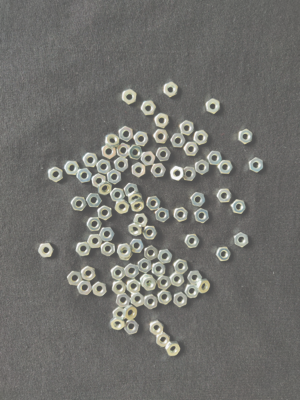nut: (122, 89, 138, 106), (163, 82, 179, 98), (141, 100, 157, 116), (134, 131, 150, 147), (83, 152, 99, 168), (155, 113, 170, 129), (180, 121, 196, 136), (194, 130, 209, 146), (238, 129, 253, 145), (119, 126, 134, 142), (156, 147, 172, 162), (114, 157, 129, 173), (97, 159, 112, 175), (77, 168, 93, 183), (86, 193, 102, 208), (231, 200, 247, 215), (76, 242, 92, 257), (117, 243, 133, 258), (144, 245, 159, 261), (157, 249, 173, 264), (111, 265, 126, 281), (81, 266, 96, 282), (67, 271, 83, 286), (110, 316, 126, 331), (150, 320, 165, 336), (156, 332, 171, 348), (166, 341, 181, 357), (38, 244, 55, 258), (206, 99, 221, 114), (154, 129, 169, 144), (141, 151, 156, 166), (128, 145, 143, 160), (208, 151, 223, 166), (249, 158, 264, 173), (170, 166, 185, 181), (151, 163, 166, 178), (107, 170, 122, 185), (87, 217, 102, 232), (147, 196, 162, 211), (174, 208, 189, 223), (191, 193, 206, 208), (195, 209, 210, 224), (100, 227, 115, 242), (216, 247, 231, 262), (234, 233, 249, 248), (101, 242, 116, 257), (130, 239, 145, 254), (174, 259, 189, 274), (138, 258, 153, 273), (77, 281, 92, 296), (92, 282, 107, 297), (196, 279, 211, 294), (170, 272, 185, 287), (157, 290, 172, 305), (116, 294, 131, 309), (124, 320, 139, 335), (184, 142, 200, 156), (218, 161, 234, 175), (49, 167, 63, 183), (110, 187, 126, 201), (71, 197, 87, 211), (98, 205, 112, 221), (156, 207, 170, 223), (217, 189, 233, 203), (87, 234, 103, 248), (174, 292, 188, 308), (171, 134, 186, 148), (106, 134, 120, 149), (196, 160, 210, 175), (132, 163, 146, 178), (65, 161, 80, 175), (92, 174, 107, 188), (98, 181, 113, 195), (124, 183, 139, 197), (128, 191, 143, 205), (115, 200, 130, 214), (129, 222, 143, 237), (143, 226, 158, 240), (185, 234, 200, 248), (152, 262, 166, 277), (125, 264, 139, 279), (157, 276, 172, 290), (143, 276, 157, 291), (127, 279, 141, 294), (112, 281, 127, 295), (144, 294, 158, 309), (124, 305, 138, 320), (187, 271, 203, 284), (102, 145, 116, 159), (185, 285, 199, 299), (131, 293, 145, 307), (117, 143, 130, 158), (134, 214, 149, 227), (184, 167, 197, 181), (131, 199, 145, 212), (120, 248, 133, 261), (140, 274, 153, 287), (113, 307, 126, 320)
